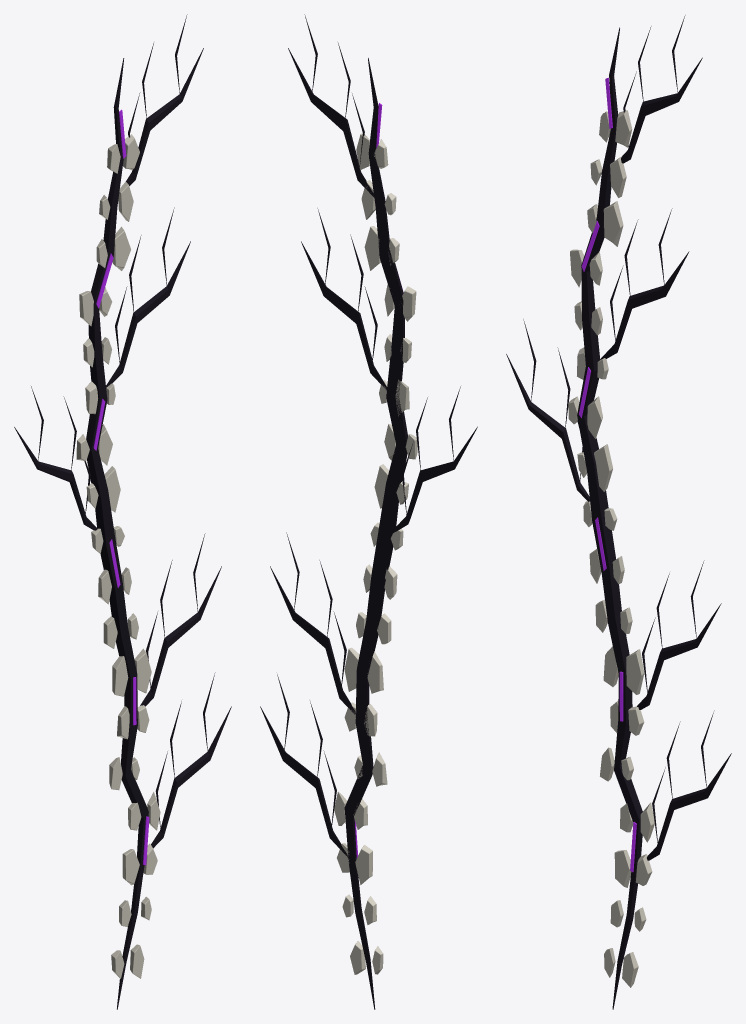
The model's file is SM_Aurelion_KIT_Z09Slit_1.fbx.
3 renders of one model, left to right at view 1: azimuth 30°, elevation 25°; view 2: azimuth 150°, elevation 25°; view 3: azimuth 330°, elevation 25°, orthographic. The views are drawn at different scales.
Parts seen in each view (by area): view 1: SM_Aurelion_KIT_Z09Slit_1; view 2: SM_Aurelion_KIT_Z09Slit_1; view 3: SM_Aurelion_KIT_Z09Slit_1.
Part boxes in pixels (bbox=[...]): SM_Aurelion_KIT_Z09Slit_1: bbox=[14, 14, 231, 1009]; SM_Aurelion_KIT_Z09Slit_1: bbox=[260, 14, 477, 1009]; SM_Aurelion_KIT_Z09Slit_1: bbox=[506, 15, 731, 1009].
Size of the model in its own units: 64.73 by 2.6 by 278.
